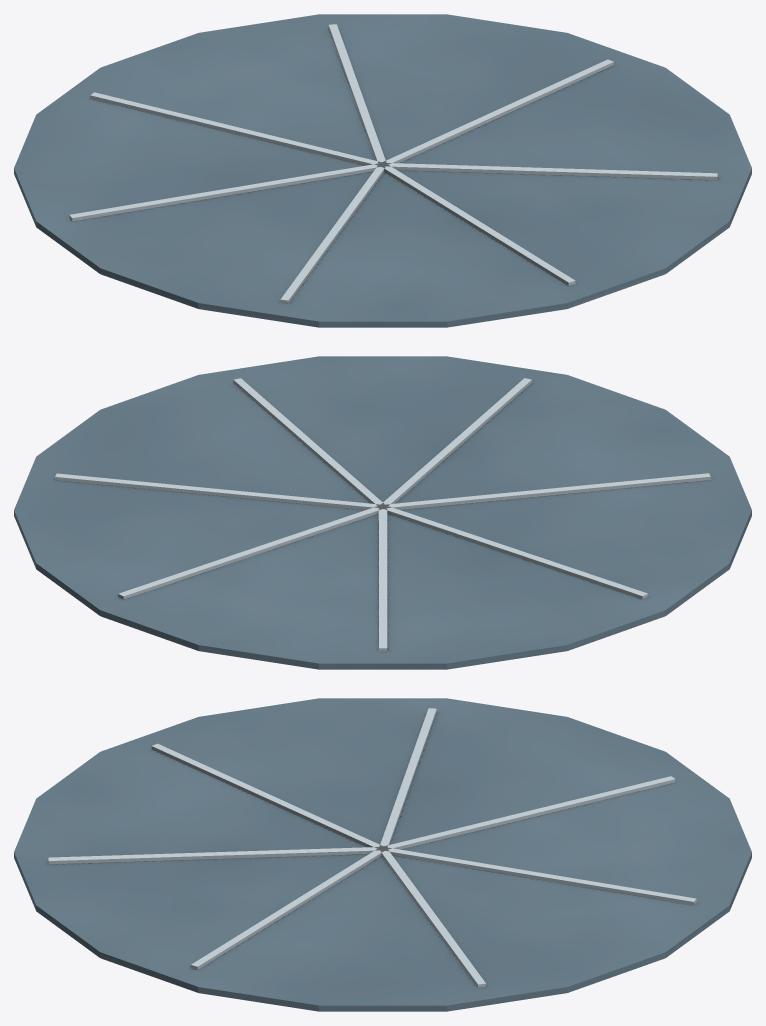
The model's file is trap_snow_heavy.glb.
3 renders of one model, top to bottom at view 1: azimuth 30°, elevation 25°; view 2: azimuth 150°, elevation 25°; view 3: azimuth 270°, elevation 25°, orthographic.
Parts seen in each view (by area): view 1: trap_snow_heavy; view 2: trap_snow_heavy; view 3: trap_snow_heavy.
Part boxes in pixels (x1,y1,x2,y2): trap_snow_heavy: (14, 14, 751, 327); trap_snow_heavy: (14, 356, 751, 669); trap_snow_heavy: (14, 698, 751, 1011).
Bounding box in the file's own units: 2.17 × 0.031 × 2.2.
Materials: 2 (2 with a texture image).
